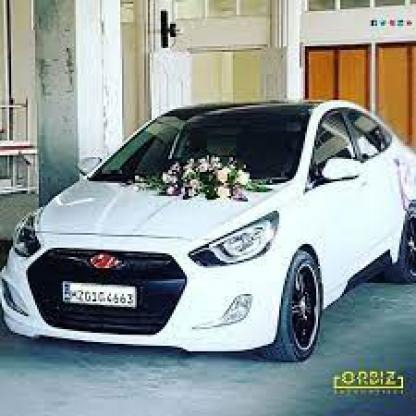car: (4, 94, 414, 368)
